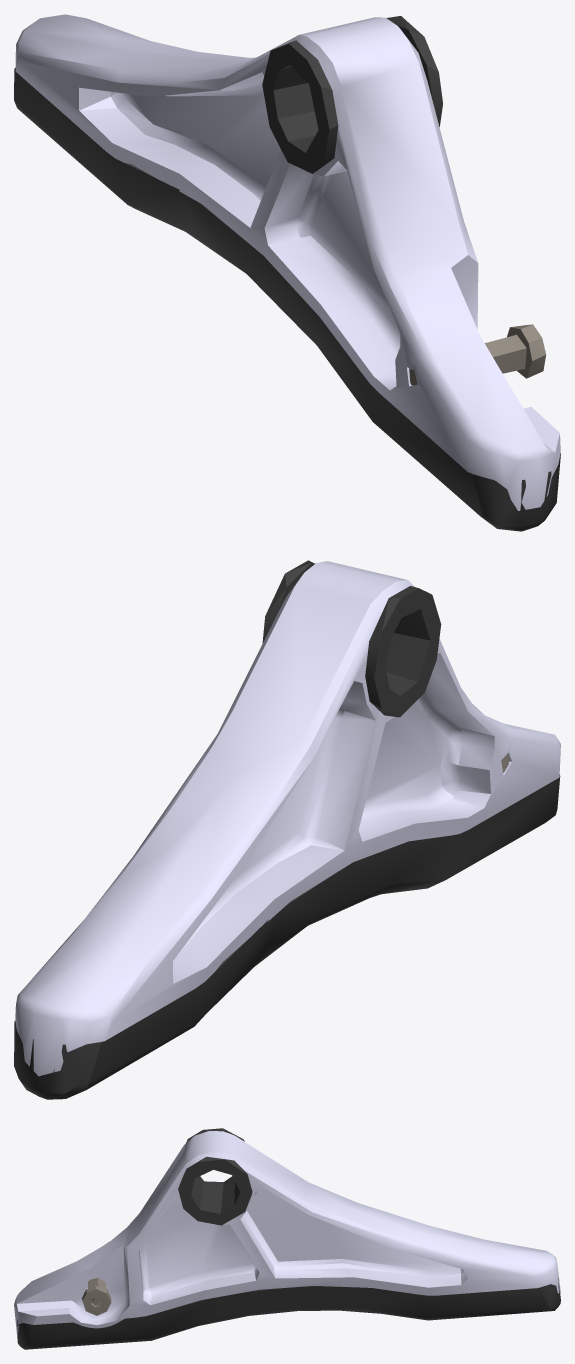
The model's file is left-foot.obj.
3 renders of one model, top to bottom at view 1: azimuth 30°, elevation 25°; view 2: azimuth 150°, elevation 25°; view 3: azimuth 270°, elevation 25°, orthographic. The views are drawn at different scales.
Parts seen in each view (by area): view 1: left_foot; view 2: left_foot; view 3: left_foot.
Part boxes in pixels (bbox=[...]): left_foot: bbox=[14, 14, 560, 531]; left_foot: bbox=[14, 560, 560, 1099]; left_foot: bbox=[14, 1128, 560, 1349].
Bounding box in the file's own units: 0.0275 × 0.0748 × 0.1804.
1 material, 1 textured.
